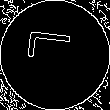L_E: (28, 36, 82, 74)
